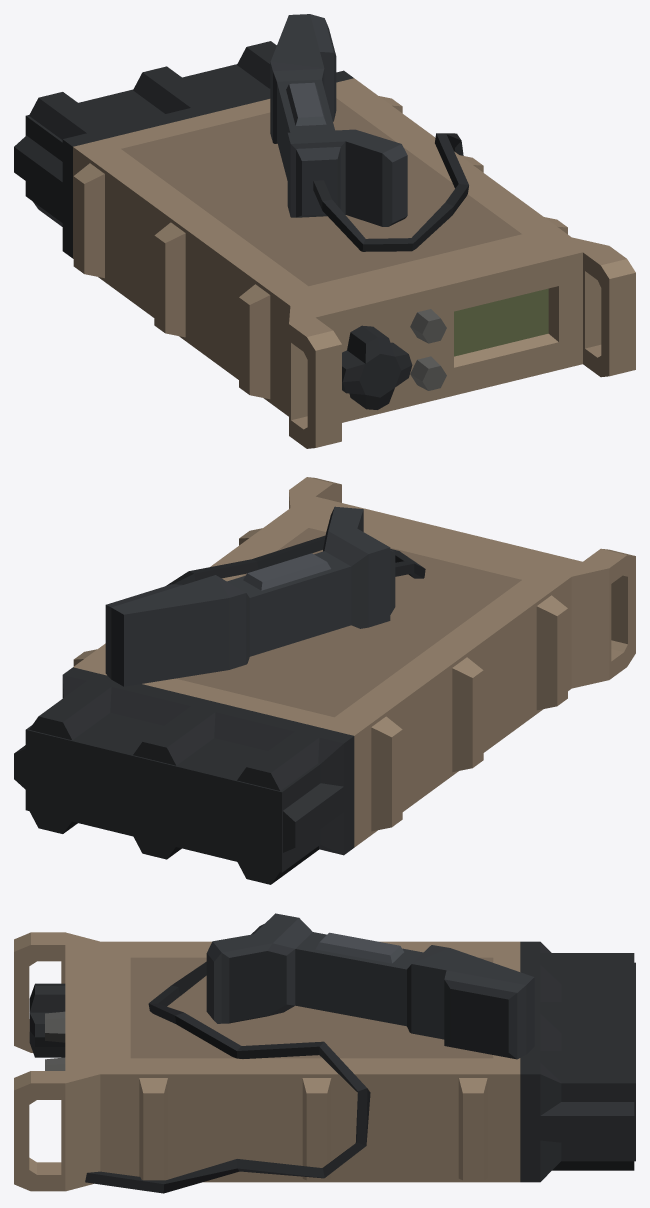
The model's file is SM_Prop_Radio_01.fbx.
The picture shows the model from 3 angles, top to bottom: view 1: azimuth 30°, elevation 25°; view 2: azimuth 150°, elevation 25°; view 3: azimuth 270°, elevation 25°; orthographic projection. The views are drawn at different scales.
Visible parts, largest first — view 1: SM_Prop_Radio_01; view 2: SM_Prop_Radio_01; view 3: SM_Prop_Radio_01.
Boxes of the visible parts, x1,y1,x2,y2 form: SM_Prop_Radio_01: (14,14,635,448); SM_Prop_Radio_01: (14,477,635,884); SM_Prop_Radio_01: (14,913,635,1193).
Bounding box in the file's own units: 36.99 × 19.95 × 61.55.
